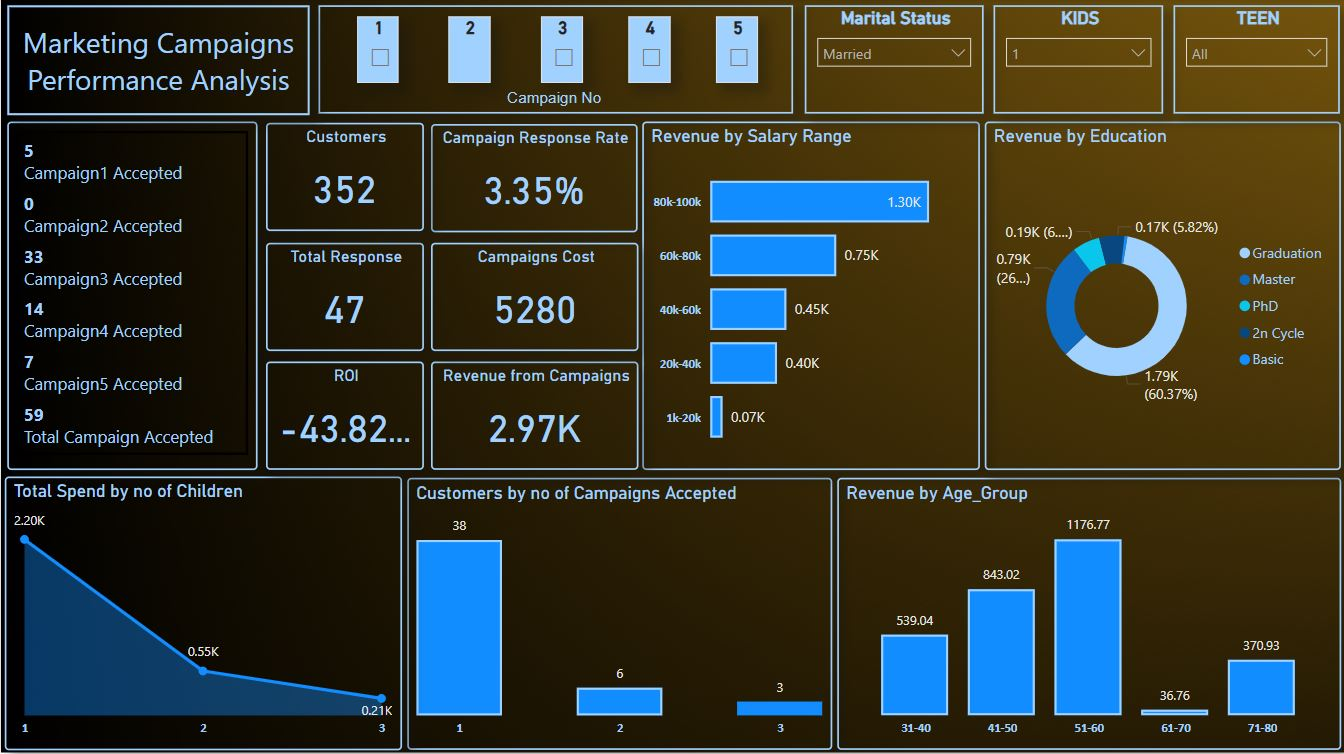

This screenshot's page, from the dashboard's own definition file:
{"tool":"powerbi","page":{"name":"Page 1","canvas":[1280,720],"ordinal":0},"visuals":[{"type":"shape","box":[302.4,6,452.4,103.6],"z":0},{"type":"columnChart","title":"Customers by no of Campaigns Accepted","fields":{"Category":["Marketing_campaign_week6.Campaigns_Accepted"],"Y":["CountNonNull(Marketing_campaign_week6.ID)"]},"box":[386.9,456,404.8,259.5],"z":1000},{"type":"multiRowCard","fields":{"Values":["Sum(Marketing_campaign_week6.AcceptedCmp1)","Sum(Marketing_campaign_week6.AcceptedCmp2)","Sum(Marketing_campaign_week6.AcceptedCmp3)","Sum(Marketing_campaign_week6.AcceptedCmp4)","Sum(Marketing_campaign_week6.AcceptedCmp5)","Sum(Marketing_campaign_week6.Campaigns_Accepted)"]},"box":[6,116.7,238,332.1],"z":2000},{"type":"card","title":"Campaign Response Rate","fields":{"Values":["Avg(Marketing_campaign_week6.Campaign_ResponseRate)"]},"box":[409.5,119,196.4,103.6],"z":3000},{"type":"card","title":"Total Response","fields":{"Values":["Sum(Marketing_campaign_week6.Is_Responsive)"]},"box":[252.4,232.1,150,103.6],"z":4000},{"type":"clusteredBarChart","title":"Revenue by Salary Range","fields":{"Category":["Marketing_campaign_week6.salary range"],"Y":["Sum(Marketing_campaign_week6.Possible_revenue)"]},"box":[610.7,116.7,321.4,332.1],"z":5000},{"type":"lineChart","title":"Total Spend by no of Children","fields":{"Y":["Sum(Marketing_campaign_week6.Possible_revenue)"],"Category":["Marketing_campaign_week6.Total_Children"]},"box":[4.1,454.2,378,260.7],"z":6000},{"type":"card","title":"Customers","fields":{"Values":["CountNonNull(Marketing_campaign_week6.ID)"]},"box":[252.4,117.9,150,103],"z":7000},{"type":"card","title":"ROI","fields":{"Values":["Marketing_campaign_week6.ROI"]},"box":[252.4,345.2,150,103.6],"z":8000},{"type":"card","title":"Revenue from Campaigns","fields":{"Values":["Sum(Marketing_campaign_week6.Possible_revenue)"]},"box":[409.5,345.2,197.6,103.6],"z":9000},{"type":"slicer","title":"1","fields":{"Values":["Marketing_campaign_week6.AcceptedCmp1"]},"box":[339.3,16.7,39.3,63.1],"z":10000},{"type":"slicer","title":"2","fields":{"Values":["Marketing_campaign_week6.AcceptedCmp2"]},"box":[426.6,16.7,39.8,63.1],"z":11000},{"type":"slicer","title":"3","fields":{"Values":["Marketing_campaign_week6.AcceptedCmp3"]},"box":[514.7,16.7,39.8,63.1],"z":12000},{"type":"slicer","title":"4","fields":{"Values":["Marketing_campaign_week6.AcceptedCmp4"]},"box":[597.8,16.7,39.8,63.1],"z":13000},{"type":"slicer","title":"5","fields":{"Values":["Marketing_campaign_week6.AcceptedCmp5"]},"box":[680.9,16.7,39.8,63.1],"z":14000},{"type":"textbox","box":[446.4,79.8,160.7,31],"z":15000},{"type":"card","title":"Campaigns Cost","fields":{"Values":["Sum(Marketing_campaign_week6.Camp_cost)"]},"box":[409.5,232.1,197.6,103.6],"z":16000},{"type":"slicer","title":"Marital Status","fields":{"Values":["Marketing_campaign_week6.Marital_Status"]},"box":[765.5,6,170.2,103.6],"z":17000},{"type":"columnChart","title":"Revenue by Age_Group","fields":{"Category":["Marketing_campaign_week6.Age_Group"],"Y":["Sum(Marketing_campaign_week6.Possible_revenue)"]},"box":[795.9,455.6,480.3,259.3],"z":18000},{"type":"donutChart","title":"Revenue by Education","fields":{"Category":["Marketing_campaign_week6.Education"],"Y":["Sum(Marketing_campaign_week6.Possible_revenue)"]},"box":[936.9,116.7,339.3,332.1],"z":19000},{"type":"slicer","title":"KIDS","fields":{"Values":["Marketing_campaign_week6.Kidhome"]},"box":[945.2,6,161.9,103.6],"z":20000},{"type":"slicer","title":"TEEN","fields":{"Values":["Marketing_campaign_week6.Teenhome"]},"box":[1116.7,6,158.3,103.6],"z":21000},{"type":"shape","box":[6,6,288.1,104.8],"z":22000}]}

Visuals, with their boxes in screenshot pixels (x1, y1, x2, y2), scaled from the page's 1280x720 canvas onto the 1344x754 screenshot:
shape: <region>318, 6, 793, 115</region>
"Customers by no of Campaigns Accepted" columnChart: <region>406, 478, 831, 749</region>
multiRowCard - Sum(Marketing_campaign_week6.AcceptedCmp1) x Sum(Marketing_campaign_week6.AcceptedCmp2): <region>6, 122, 256, 470</region>
"Campaign Response Rate" card: <region>430, 125, 636, 233</region>
"Total Response" card: <region>265, 243, 423, 352</region>
"Revenue by Salary Range" clusteredBarChart: <region>641, 122, 979, 470</region>
"Total Spend by no of Children" lineChart: <region>4, 476, 401, 749</region>
"Customers" card: <region>265, 123, 423, 231</region>
"ROI" card: <region>265, 362, 423, 470</region>
"Revenue from Campaigns" card: <region>430, 362, 637, 470</region>
"1" slicer: <region>356, 17, 398, 84</region>
"2" slicer: <region>448, 17, 490, 84</region>
"3" slicer: <region>540, 17, 582, 84</region>
"4" slicer: <region>628, 17, 669, 84</region>
"5" slicer: <region>715, 17, 757, 84</region>
textbox: <region>469, 84, 637, 116</region>
"Campaigns Cost" card: <region>430, 243, 637, 352</region>
"Marital Status" slicer: <region>804, 6, 982, 115</region>
"Revenue by Age_Group" columnChart: <region>836, 477, 1340, 749</region>
"Revenue by Education" donutChart: <region>984, 122, 1340, 470</region>
"KIDS" slicer: <region>992, 6, 1162, 115</region>
"TEEN" slicer: <region>1173, 6, 1339, 115</region>
shape: <region>6, 6, 309, 116</region>
